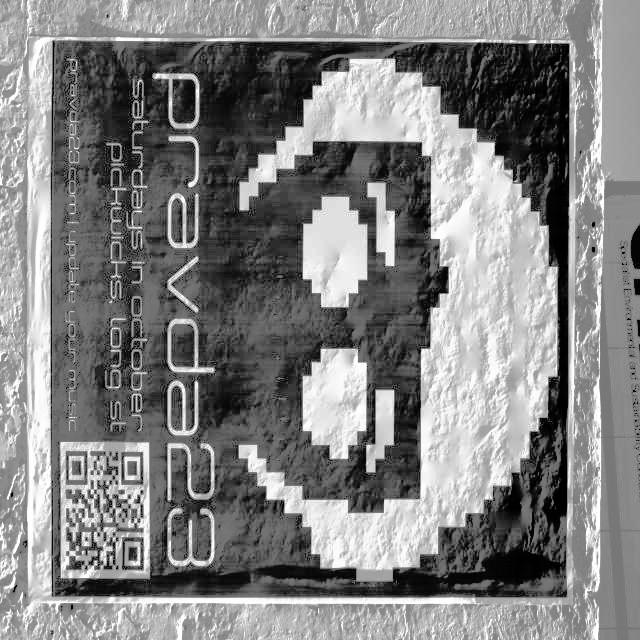qr_code: (66, 451, 143, 570)
